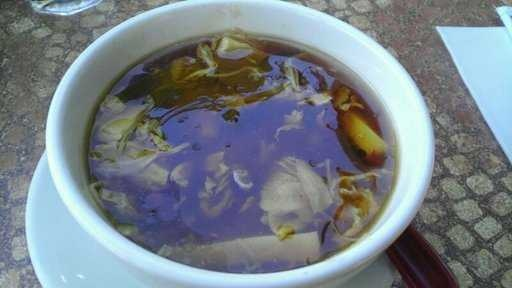soup: (86, 23, 383, 237)
